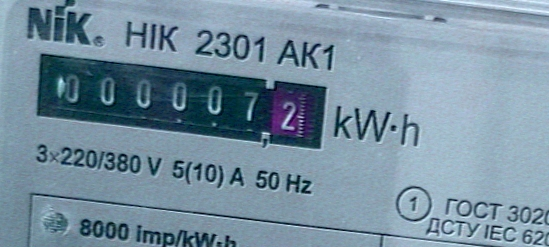0: (129, 73, 157, 113), (167, 77, 192, 117), (201, 80, 227, 118), (59, 69, 85, 106), (96, 71, 120, 109)
2: (276, 96, 301, 135)
7: (237, 85, 262, 126)
screen: (26, 42, 338, 160)
